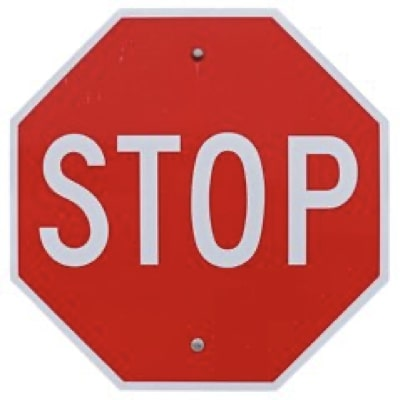StopSign: (9, 5, 391, 393)
